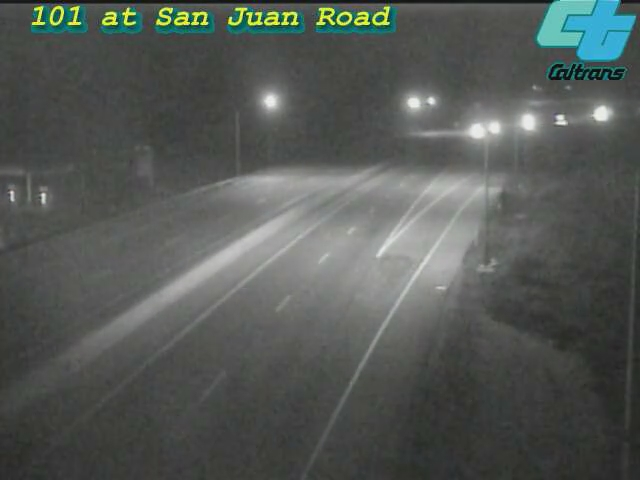vehicle: (535, 97, 585, 147), (447, 106, 497, 156), (502, 97, 552, 147), (467, 104, 517, 154), (575, 88, 625, 138)
